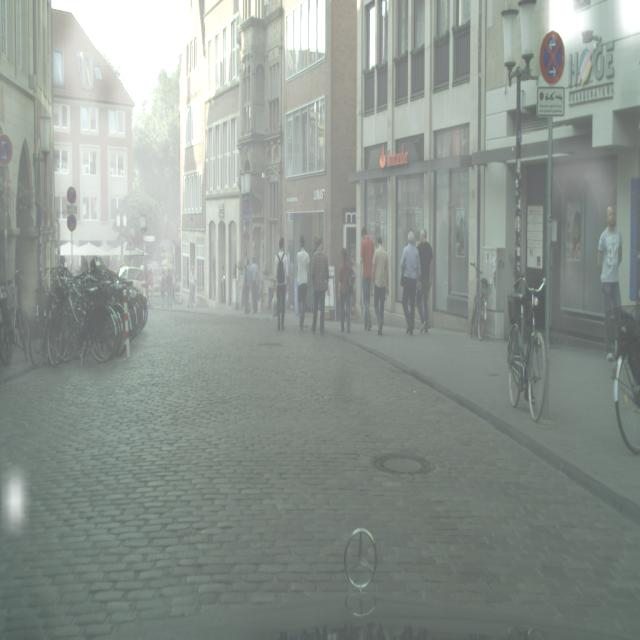car: (507, 274, 548, 422), (612, 309, 640, 455), (1, 269, 31, 364), (469, 256, 493, 341)
person: (598, 204, 622, 362), (399, 230, 422, 336), (310, 236, 329, 334), (372, 234, 390, 335), (416, 228, 433, 333), (360, 226, 375, 331), (273, 235, 289, 331), (295, 236, 310, 332), (338, 247, 353, 333), (188, 264, 197, 308)
